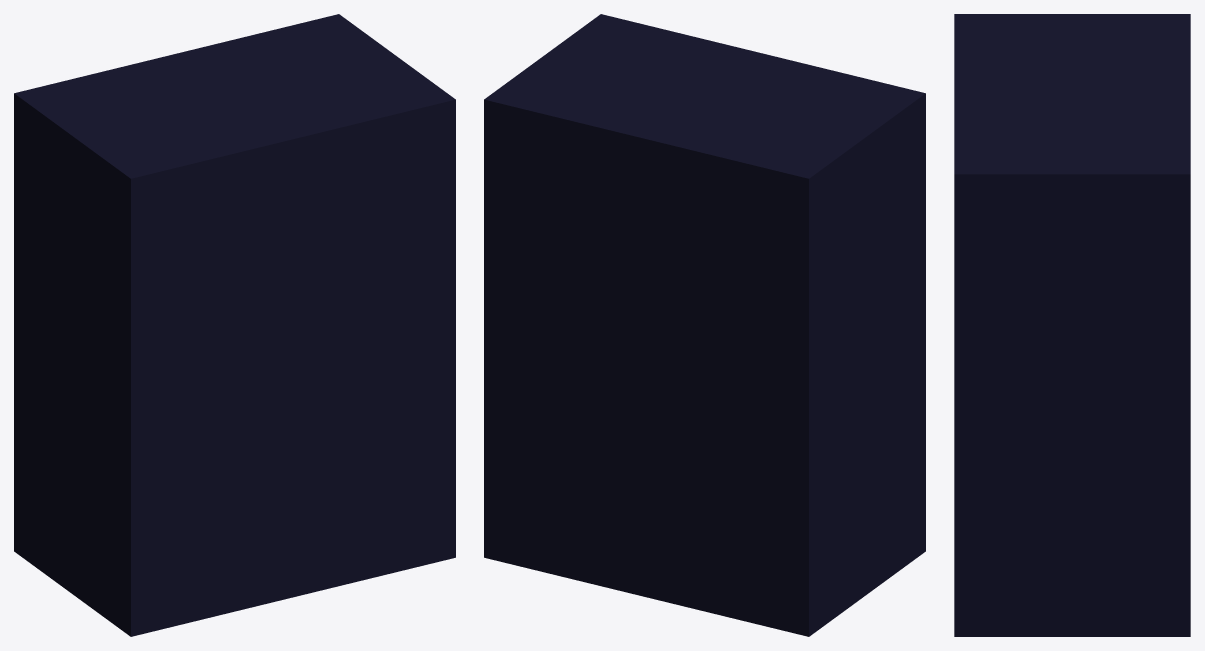
The model's file is sterilvognsort.glb.
3 renders of one model, left to right at view 1: azimuth 30°, elevation 25°; view 2: azimuth 150°, elevation 25°; view 3: azimuth 270°, elevation 25°, orthographic.
Parts seen in each view (by area): view 1: Cube79; view 2: Cube79; view 3: Cube79.
Part boxes in pixels (left/top/right/bottom): Cube79: left=14, top=14, right=455, bottom=636; Cube79: left=484, top=14, right=925, bottom=636; Cube79: left=954, top=14, right=1190, bottom=636.
Bounding box in the file's own units: 1.24 × 1.66 × 0.77.
